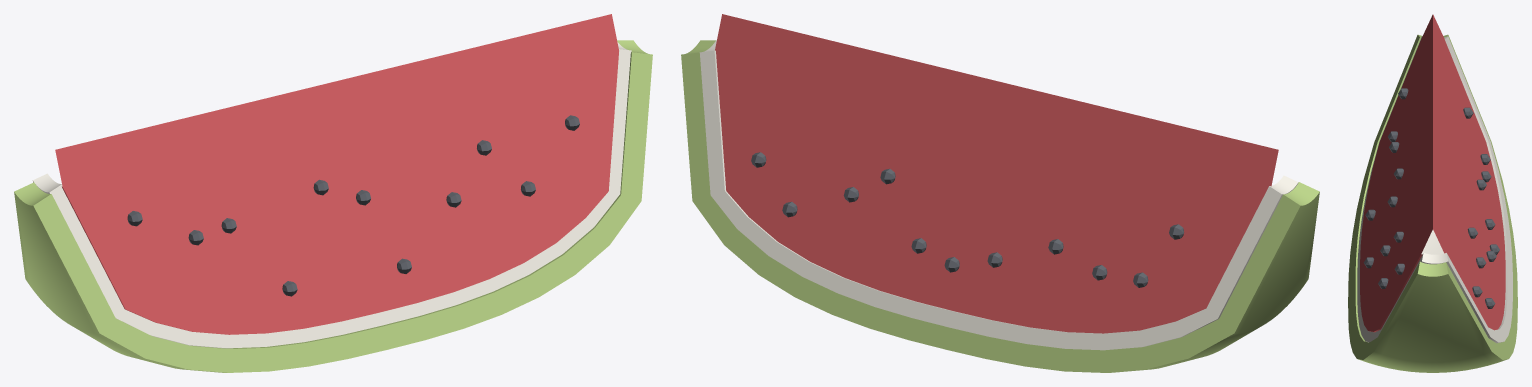
File: fresh-produce-and-groceries-watermelon-wedge-e2b85d5f__24344.glb
The picture shows the model from 3 angles, left to right: view 1: azimuth 30°, elevation 25°; view 2: azimuth 150°, elevation 25°; view 3: azimuth 270°, elevation 25°; orthographic projection. The views are drawn at different scales.
Parts seen in each view (by area): view 1: watermelon-wedge; view 2: watermelon-wedge; view 3: watermelon-wedge.
Boxes of the visible parts, x1,y1,x2,y2 form: watermelon-wedge: [14, 14, 652, 372]; watermelon-wedge: [681, 14, 1319, 372]; watermelon-wedge: [1348, 14, 1517, 372].
Size of the model in its own units: 0.3 by 0.115 by 0.0899.
